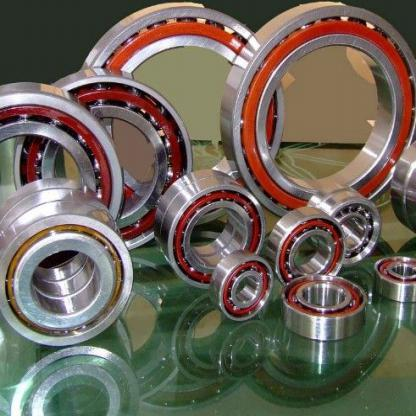FOD: (216, 3, 415, 226), (9, 65, 195, 255), (75, 2, 283, 161), (0, 196, 135, 348), (0, 77, 131, 230), (149, 167, 269, 291), (266, 202, 351, 293), (304, 179, 383, 271), (278, 272, 371, 344), (206, 248, 276, 324), (371, 248, 415, 306)
